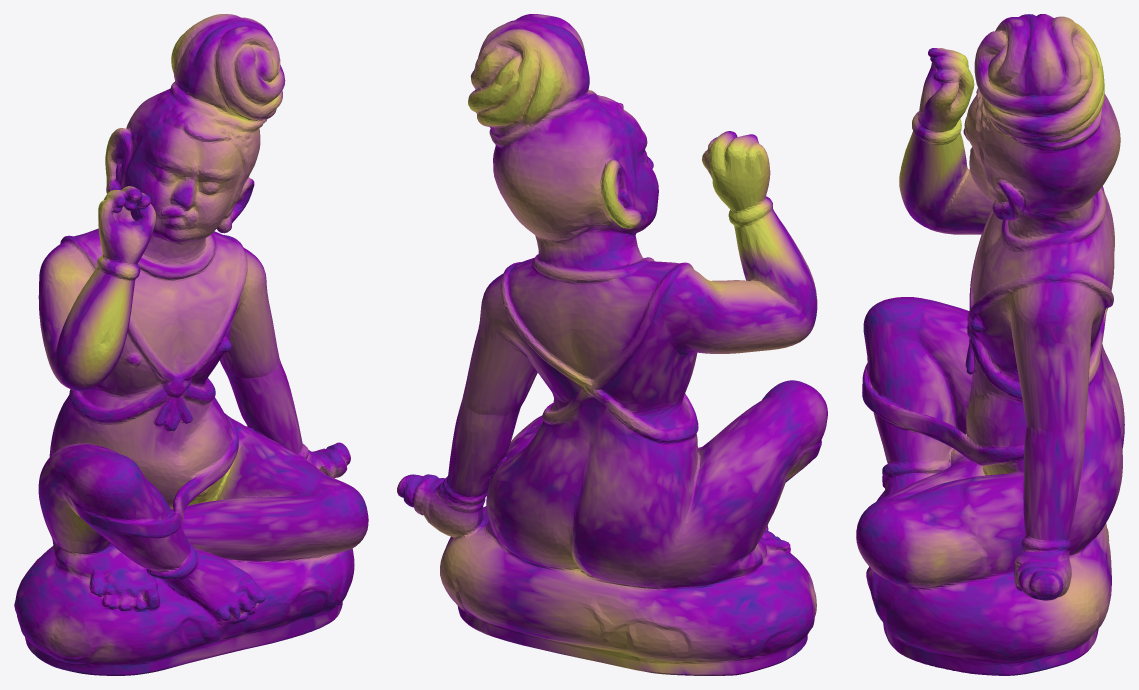
The model's file is iter_14.glb.
3 views of the same model, side by side, from view 1: azimuth 30°, elevation 25°; view 2: azimuth 150°, elevation 25°; view 3: azimuth 270°, elevation 25° (orthographic). The views are drawn at different scales.
Visible parts, largest first — view 1: textured_mesh; view 2: textured_mesh; view 3: textured_mesh.
Boxes of the visible parts, x1,y1,x2,y2 form: textured_mesh: (14,14,368,675); textured_mesh: (397,14,827,675); textured_mesh: (856,14,1124,675).
Bounding box in the file's own units: 1.3 × 1.99 × 0.7887.
